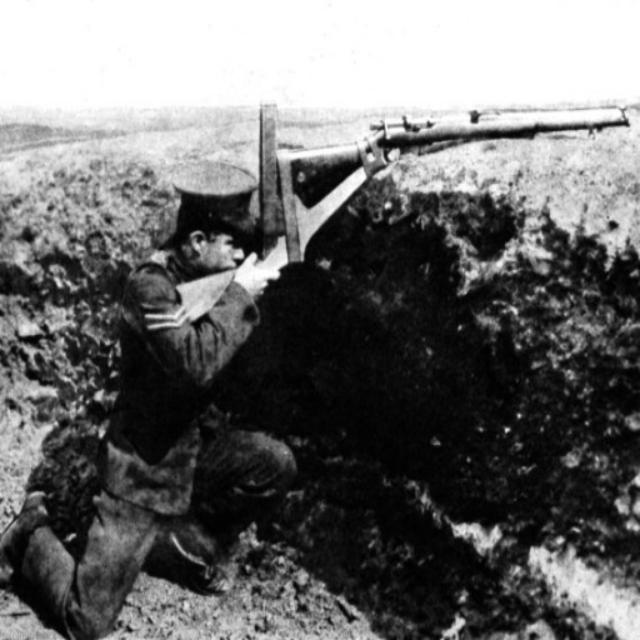other: (110, 162, 284, 630)
